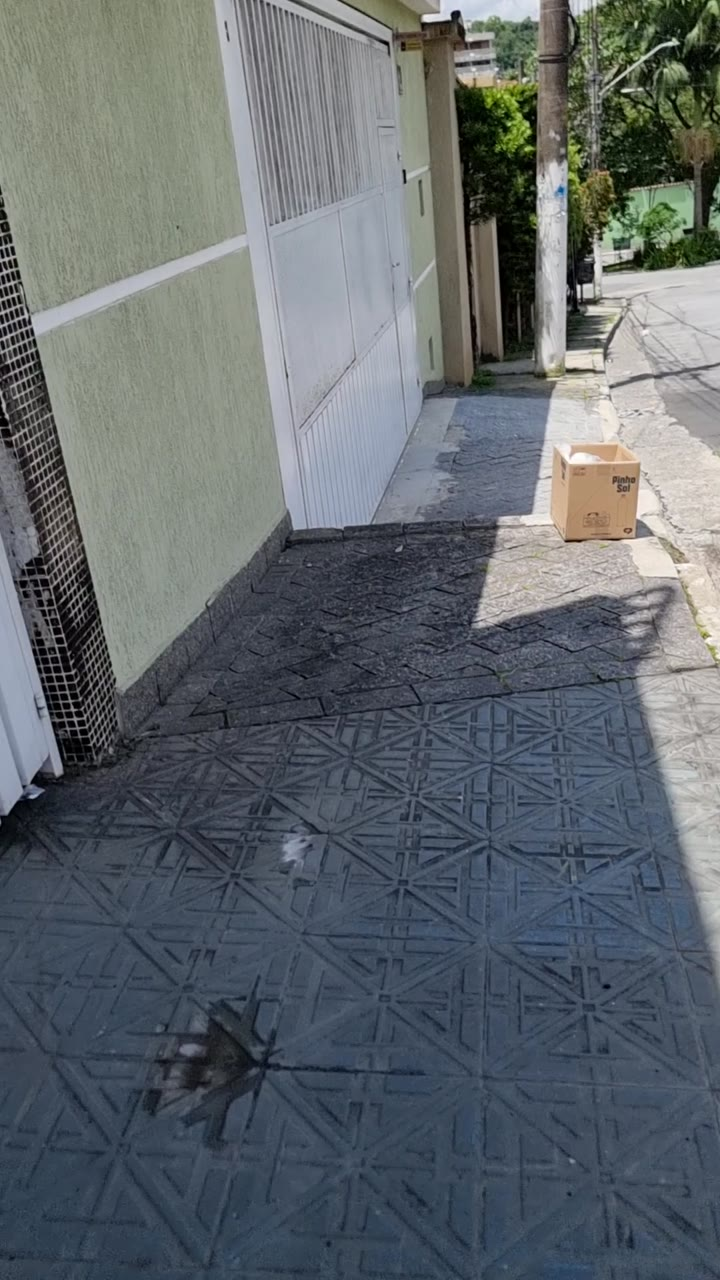obstaculo: (526, 0, 576, 538), (551, 444, 639, 541)
